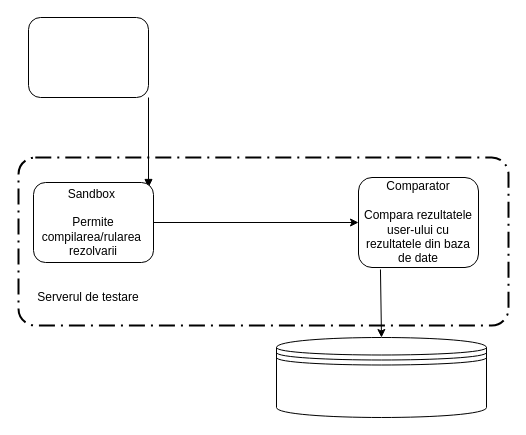
Some shapes in this 526 by 435 pixel diagram are drawn without their labels. The box of each missing label's shape, as (x1, y1, x2, y2) in pixels:
Baza de date Stocheaza teste-case-urile problemei: (276, 336, 486, 418)
Page Aplication Provides solution file/solution string: (28, 16, 148, 98)
